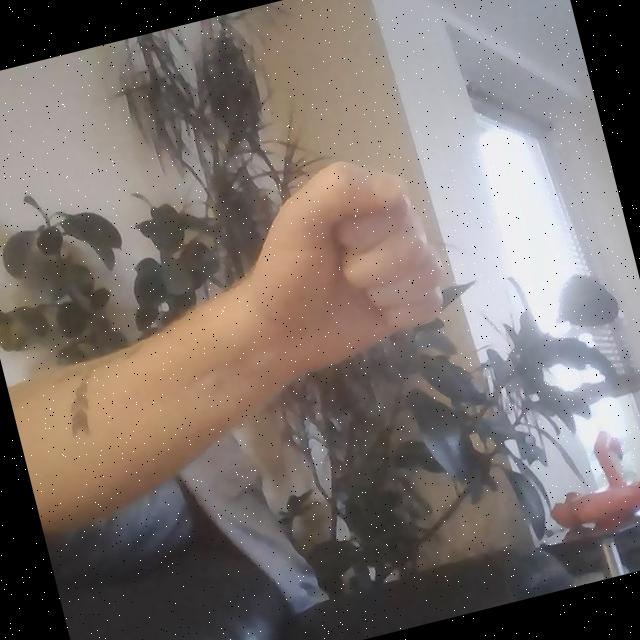rock: (224, 142, 463, 384)
